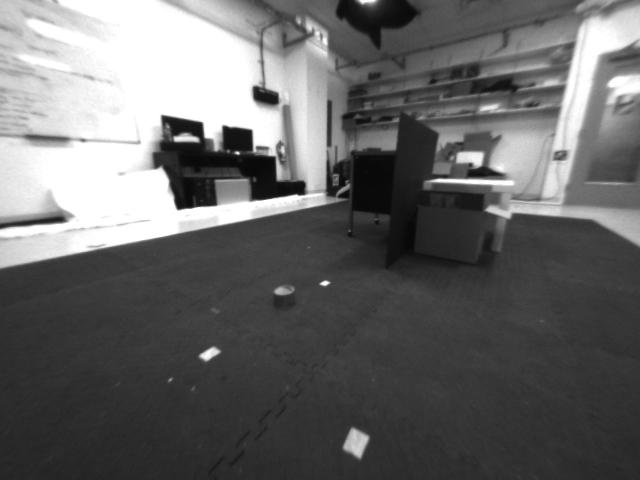dogtoy: (264, 275, 301, 318)
